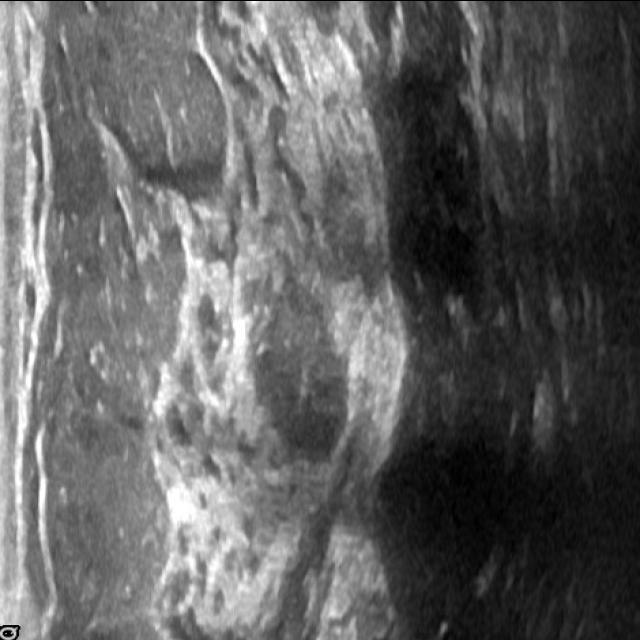Normal: (21, 37, 599, 610)
